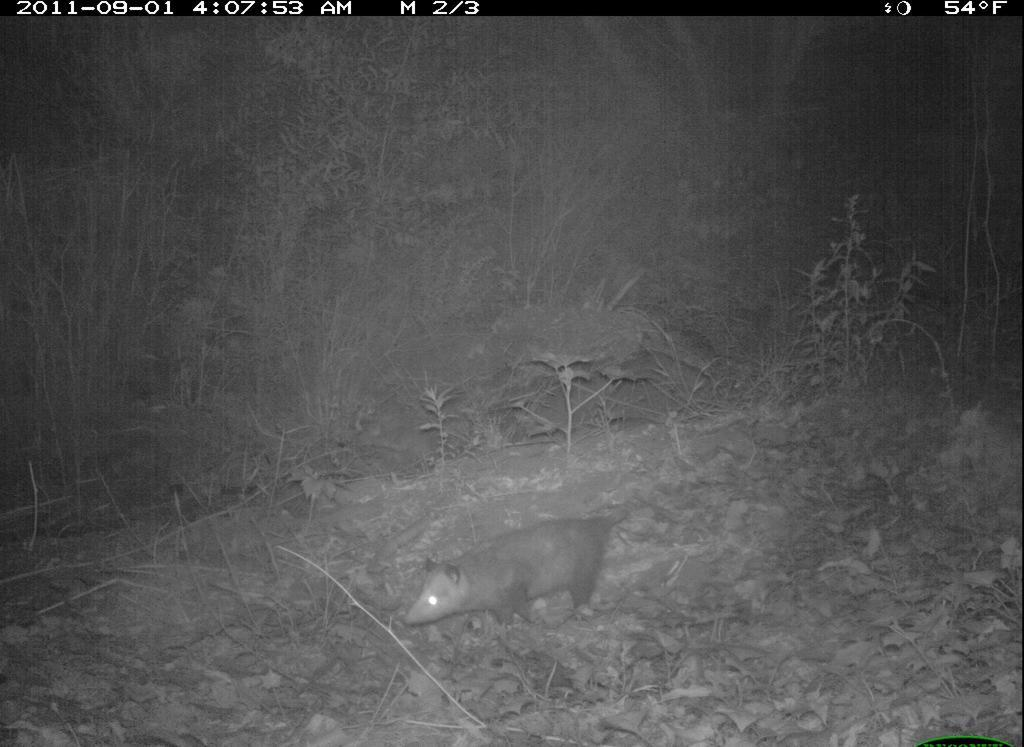opossum: (400, 504, 638, 647)
